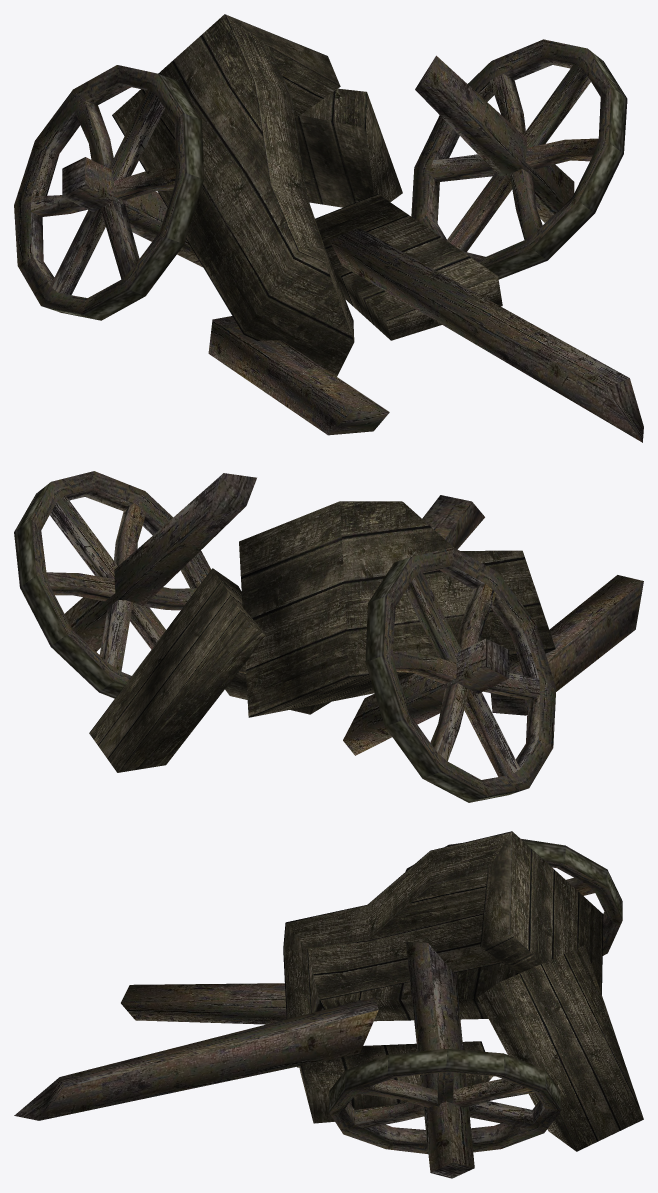
Rendered from KM_BROKENCART.glb.
The picture shows the model from 3 angles, top to bottom: view 1: azimuth 30°, elevation 25°; view 2: azimuth 150°, elevation 25°; view 3: azimuth 270°, elevation 25°; orthographic projection. The views are drawn at different scales.
Visible parts, largest first — view 1: Mesh; view 2: Mesh; view 3: Mesh.
Part boxes in pixels (box(x1,y1,x2,y2)): Mesh: box(14, 14, 643, 442); Mesh: box(14, 471, 643, 802); Mesh: box(14, 831, 643, 1178).
Bounding box in the file's own units: 4.66 × 2.33 × 5.45.
3 materials, 3 textured.
